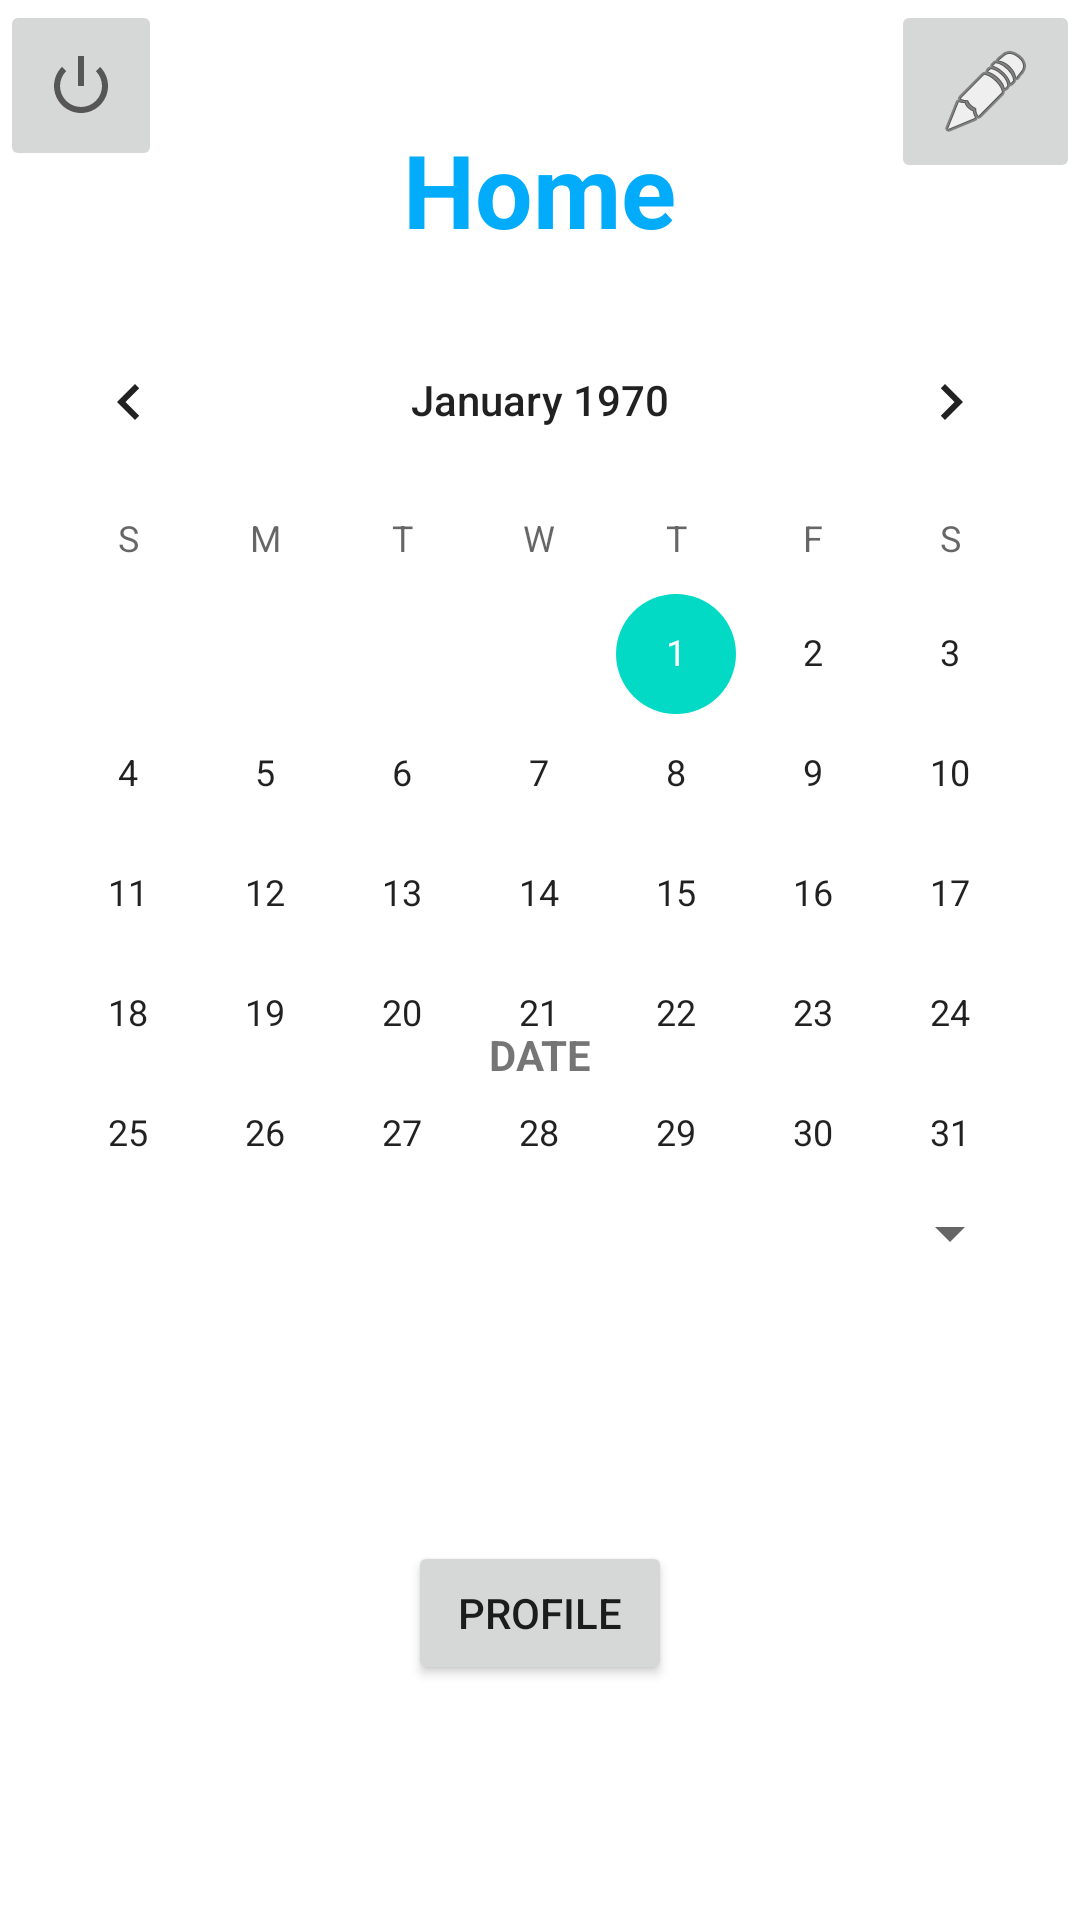

Screen size 1080 × 1920. Icon name, then its box in pixels as detection(x1, y1, x2, y2):
edit: detection(903, 18, 1068, 165)
